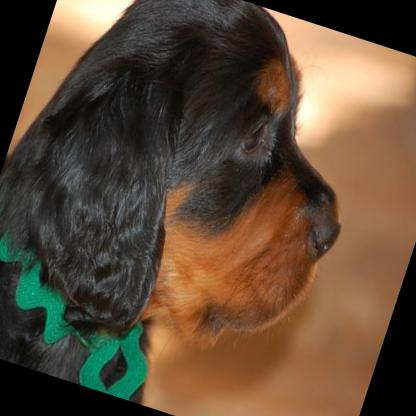Gordon_setter: (0, 0, 401, 416)
